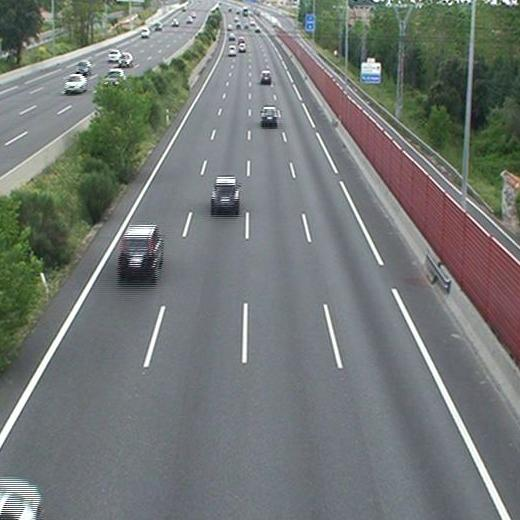car: (120, 227, 162, 275), (211, 177, 238, 209), (261, 108, 278, 123), (260, 71, 271, 84), (227, 45, 235, 56), (237, 45, 245, 53)
